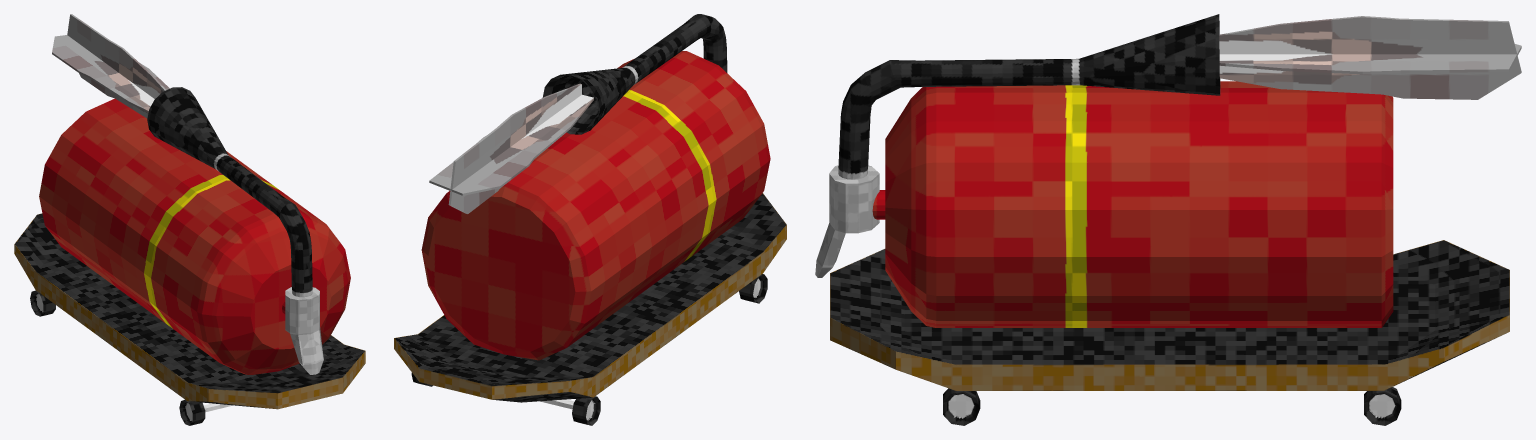
File: FireExtingisher.fbx
3 views of the same model, side by side, from view 1: azimuth 30°, elevation 25°; view 2: azimuth 150°, elevation 25°; view 3: azimuth 270°, elevation 25° (orthographic). The views are drawn at different scales.
Parts seen in each view (by area): view 1: fireexting, skate, Plane, Plane.001, activ, frontwheels, backwheels; view 2: fireexting, skate, Plane, Plane.001, backwheels, frontwheels; view 3: fireexting, skate, Plane, Plane.001, activ, backwheels, frontwheels.
Boxes of the visible parts, box(x1,y1,x2,y2) form: fireexting: box(39, 87, 350, 374); skate: box(14, 213, 365, 409); Plane: box(67, 14, 166, 118); Plane.001: box(52, 35, 169, 112); activ: box(285, 287, 323, 374); frontwheels: box(179, 400, 205, 425); backwheels: box(30, 290, 55, 316); fireexting: box(421, 14, 770, 360); skate: box(394, 193, 786, 402); Plane: box(448, 83, 581, 213); Plane.001: box(429, 94, 593, 195); backwheels: box(411, 373, 600, 425); frontwheels: box(739, 274, 767, 303); fireexting: box(838, 14, 1393, 327); skate: box(830, 240, 1509, 390); Plane: box(1219, 16, 1521, 99); Plane.001: box(1219, 44, 1521, 74); activ: box(815, 165, 879, 277); backwheels: box(1364, 387, 1401, 425); frontwheels: box(943, 388, 980, 425).
Size of the model in its own units: 93.27 by 144 by 258.
9 materials, 9 textured.
